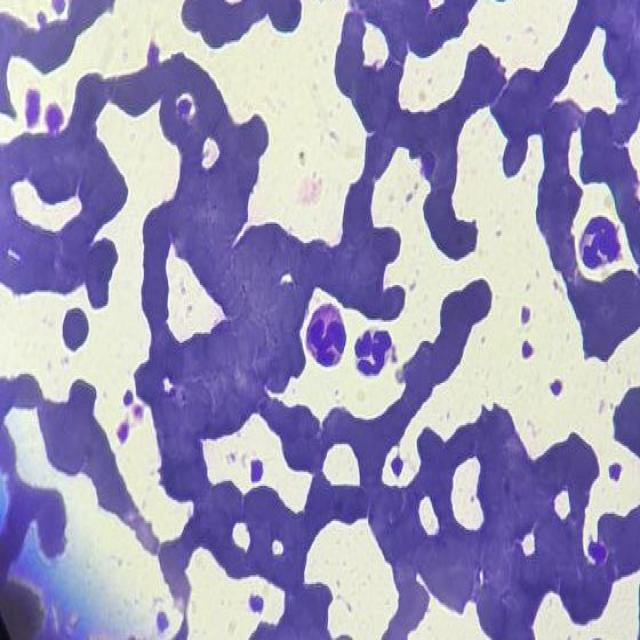Neutrofilo: (306, 307, 352, 369), (579, 215, 625, 267), (354, 327, 395, 382)
